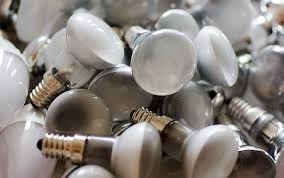glass: (29, 8, 121, 110), (130, 99, 245, 178), (29, 120, 160, 178), (121, 21, 203, 94), (40, 80, 118, 146), (1, 98, 63, 178), (193, 25, 242, 91)
